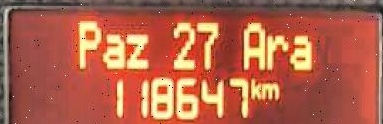1: (110, 71, 130, 119), (137, 76, 150, 119)
2: (172, 16, 195, 70)
4: (200, 75, 224, 119)
6: (174, 73, 198, 119)
7: (195, 16, 218, 72), (228, 71, 248, 119)
8: (151, 73, 172, 121)
X: (77, 17, 102, 68), (241, 17, 265, 70), (125, 31, 148, 70), (101, 31, 124, 68), (292, 33, 312, 72), (266, 33, 286, 70), (261, 80, 278, 100), (249, 75, 260, 98)
